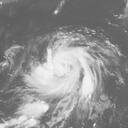cyclone: (21, 26, 120, 116)
